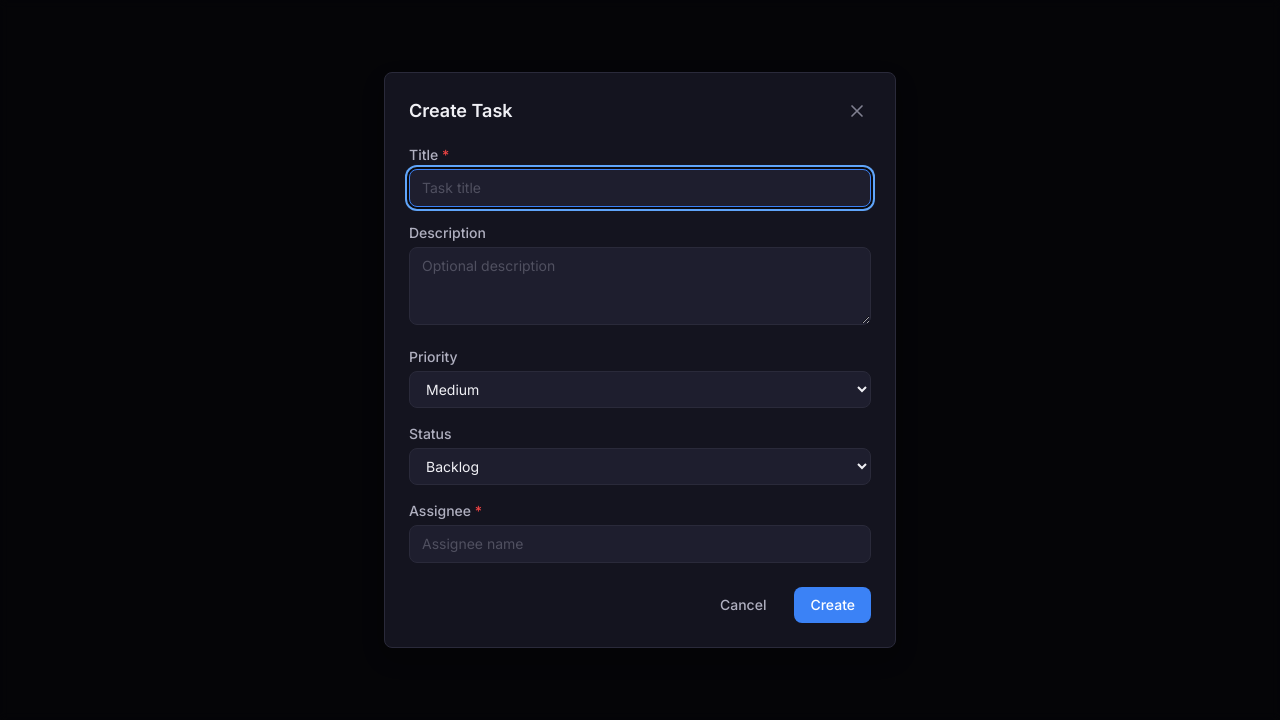
Scenario: CreateTaskModal — status dropdown › validation prevents submit with empty assignee
This screenshot has width=1280, height=720.
Type "Validation task" into the field labelled "Title *".
click(640, 188); type("Validation task")  # box [409,169,871,207]
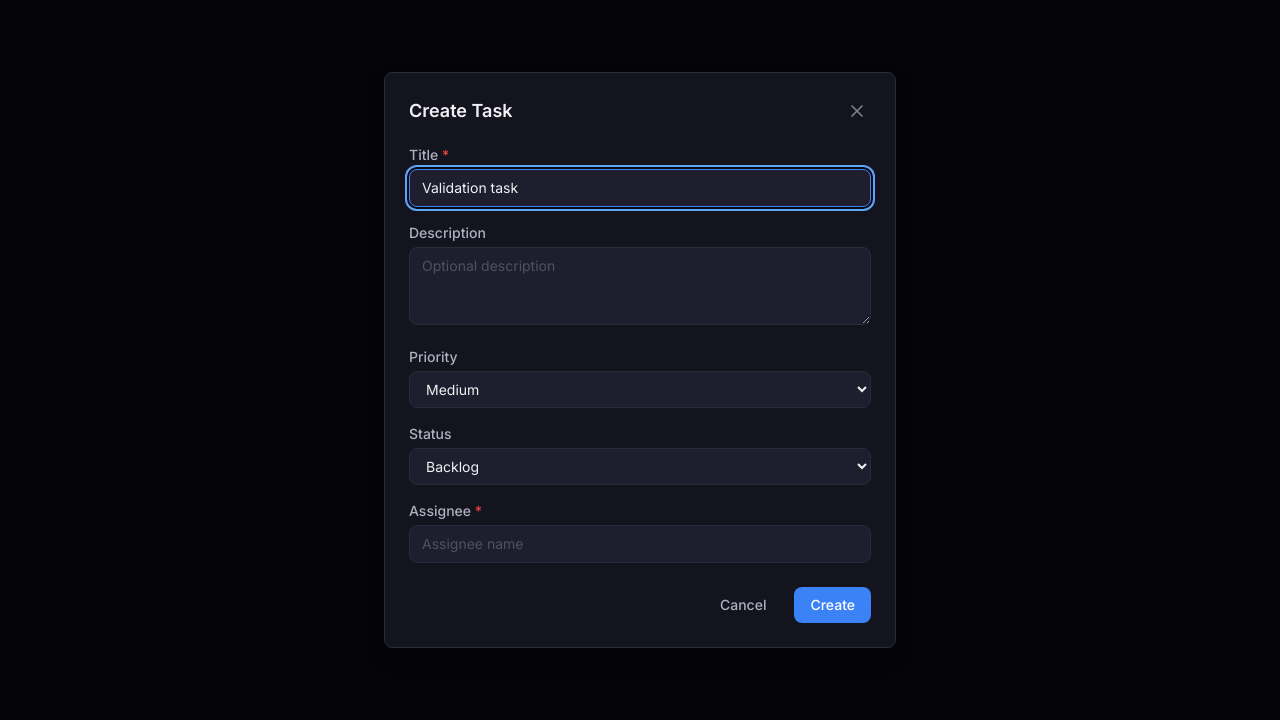
Click the button "Create".
click(833, 605)  # box [794,587,871,623]
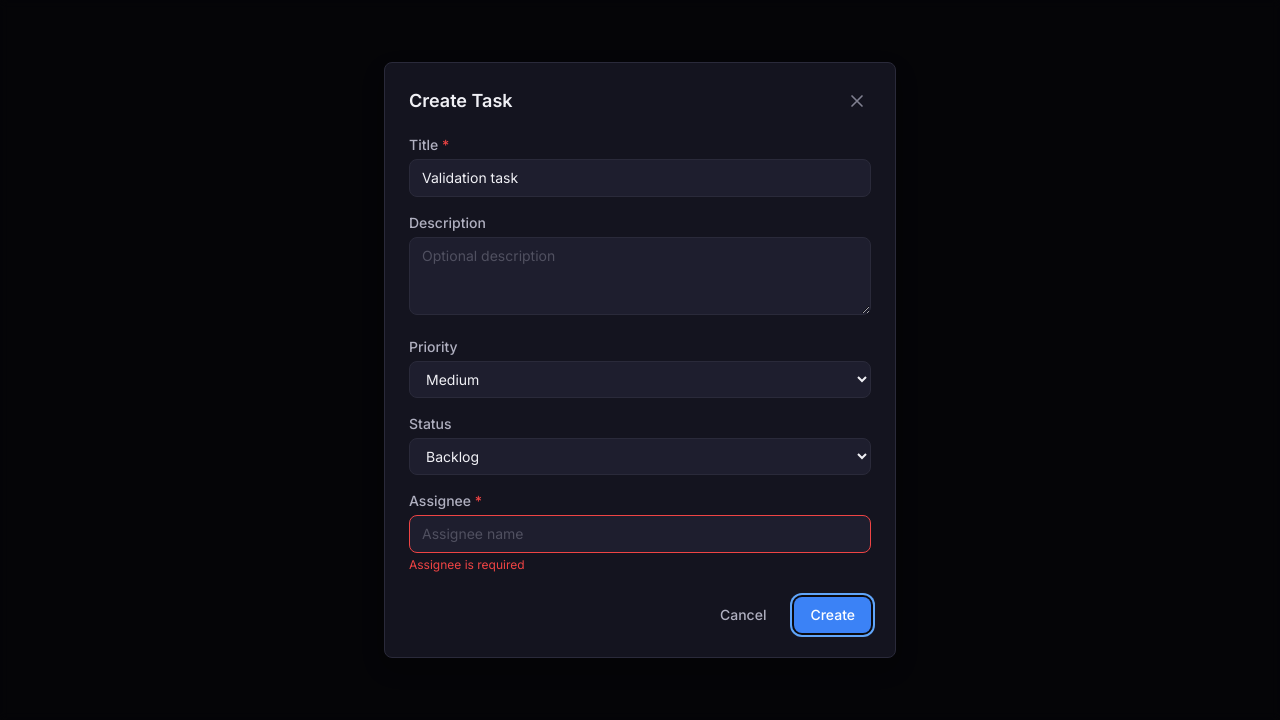
Expected: the text "Assignee is required" is shown, [409,557,525,572]
